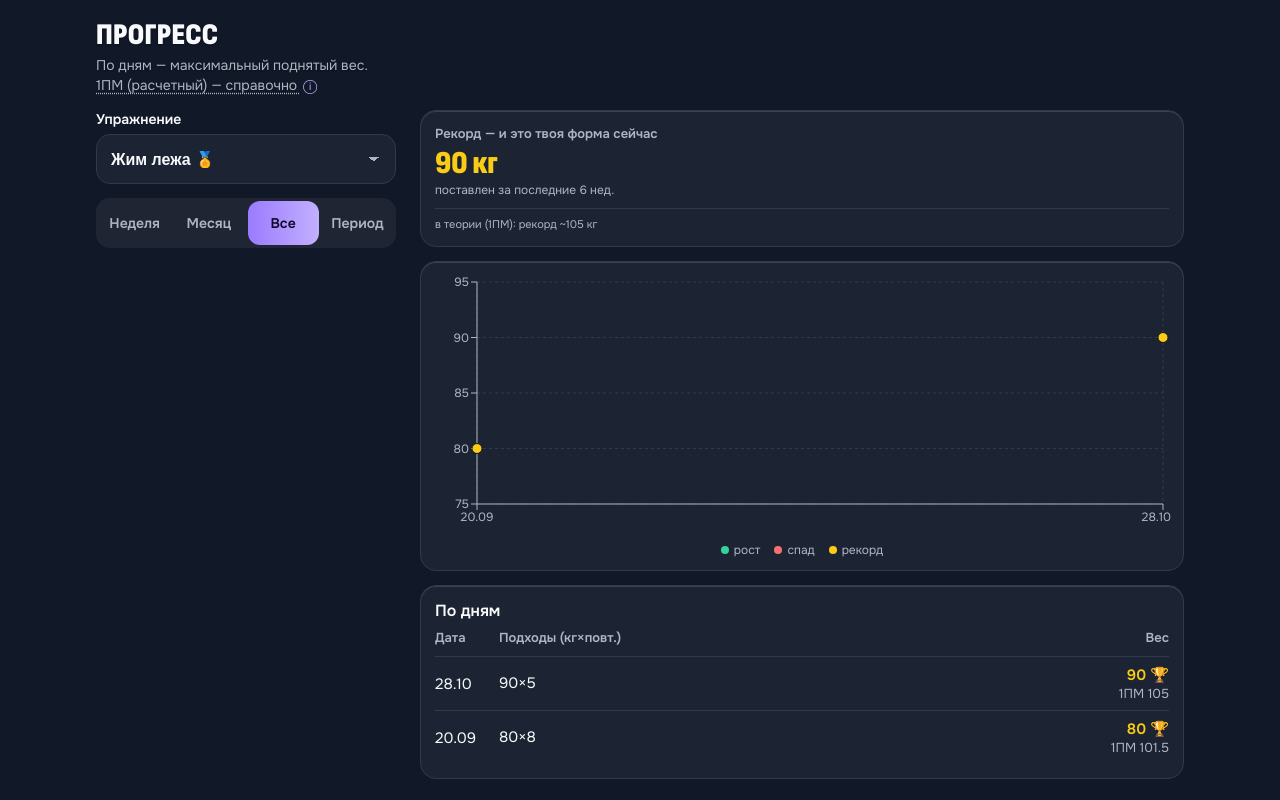
Test: ProgressScreen — периоды › неделя оставляет свежее, месяц — тоже без старого; «Все» возвращает
Expected: the text "1ПМ 105" is shown 2 times, [1119,685,1169,702]; [1111,739,1169,756]
Click the button "Неделя". click: (135, 223)
box: [99,201,170,245]
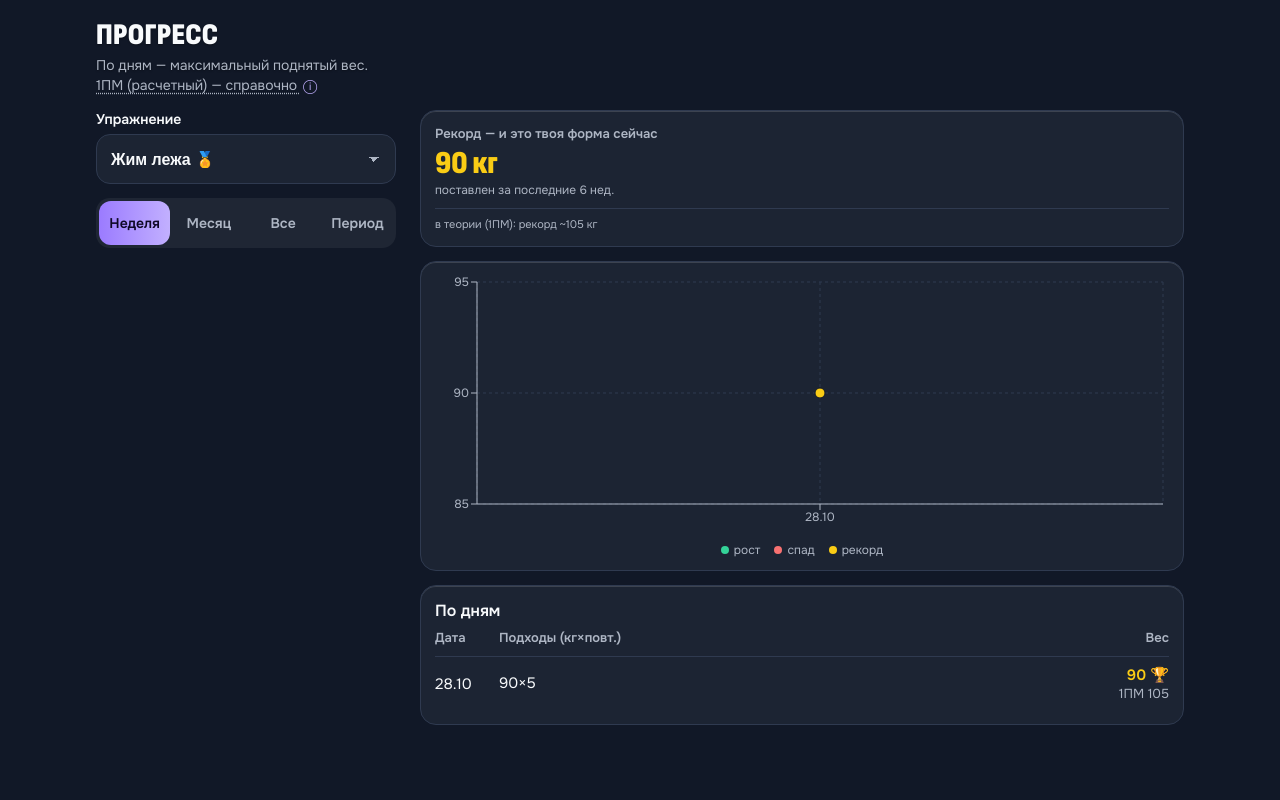
Now the text "1ПМ 105" is shown once, box [1119,685,1169,702]
Click the button "Месяц". click: (209, 223)
box: [173,201,245,245]
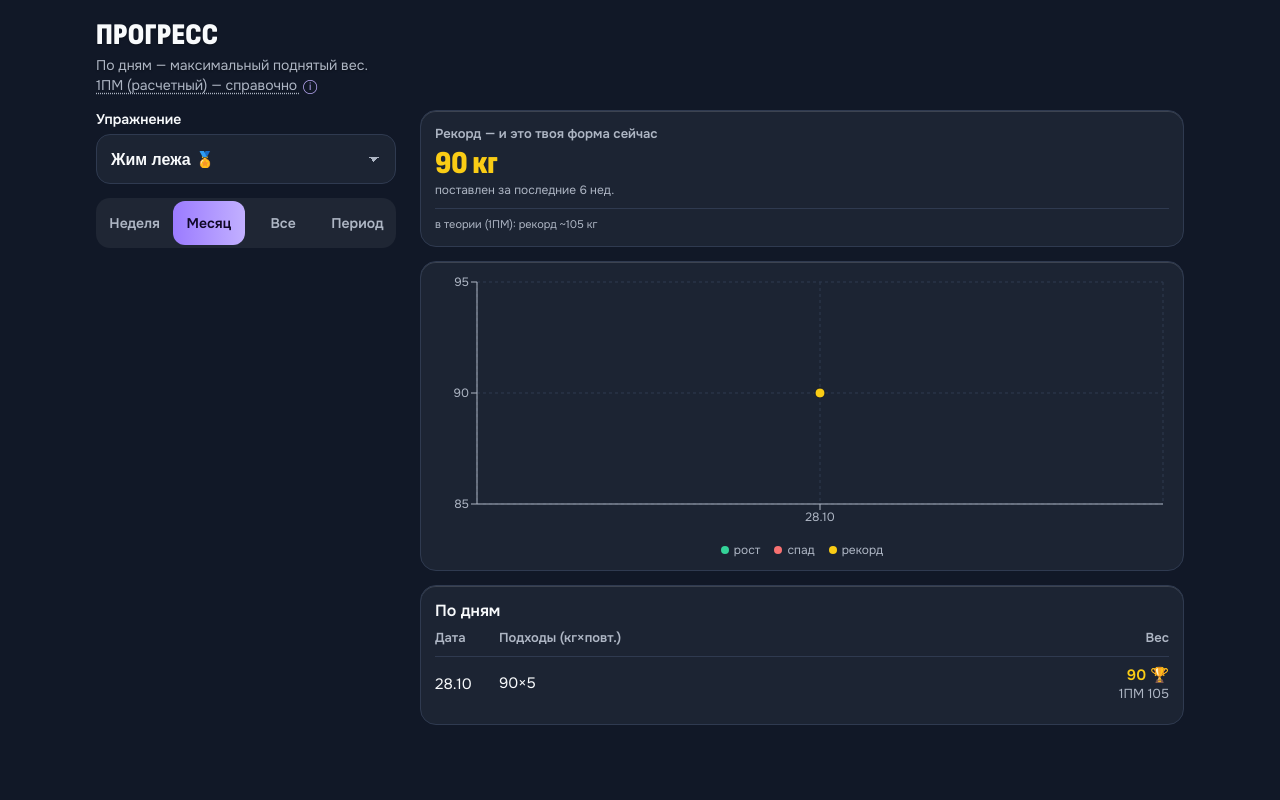
Now the text "1ПМ 105" is shown once, box [1119,685,1169,702]
Click the button "Все". click: (283, 223)
box: [248,201,319,245]
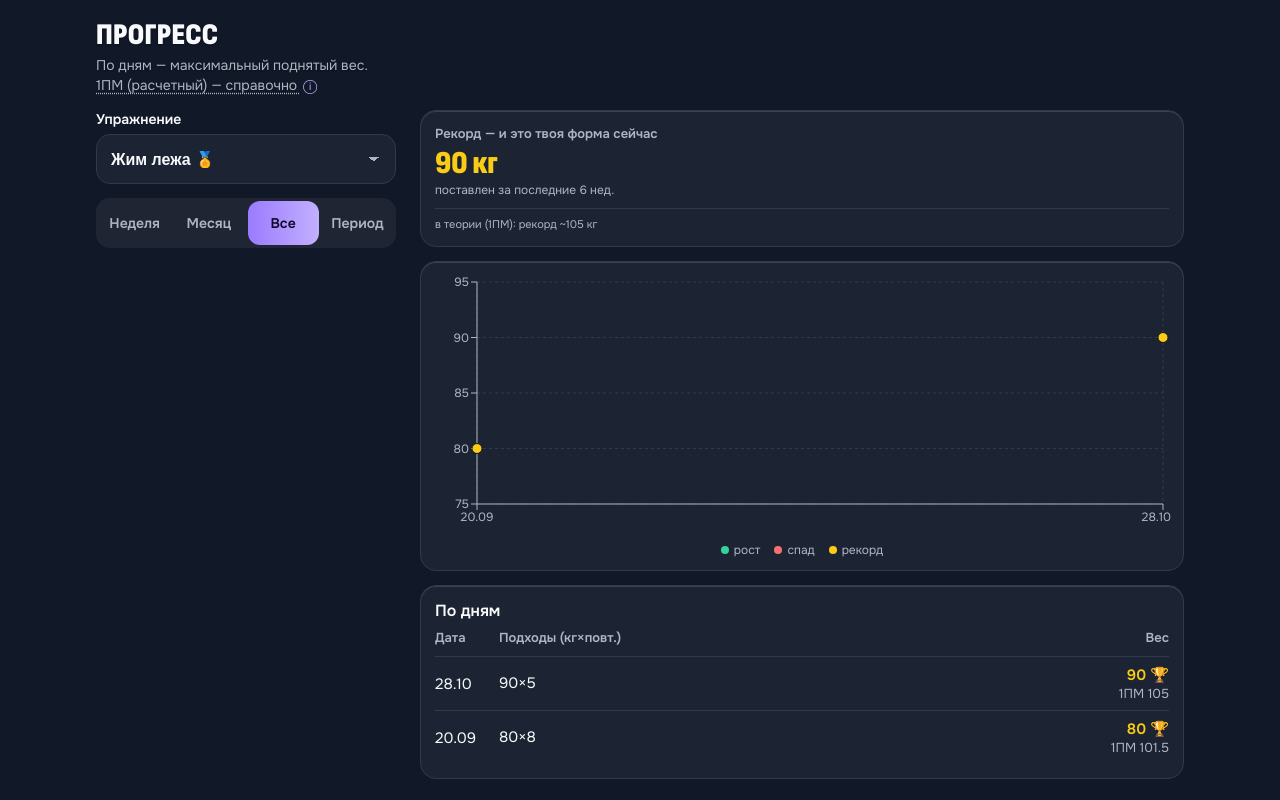
Now the text "1ПМ 105" is shown 2 times, box [1119,685,1169,702]; [1111,739,1169,756]
